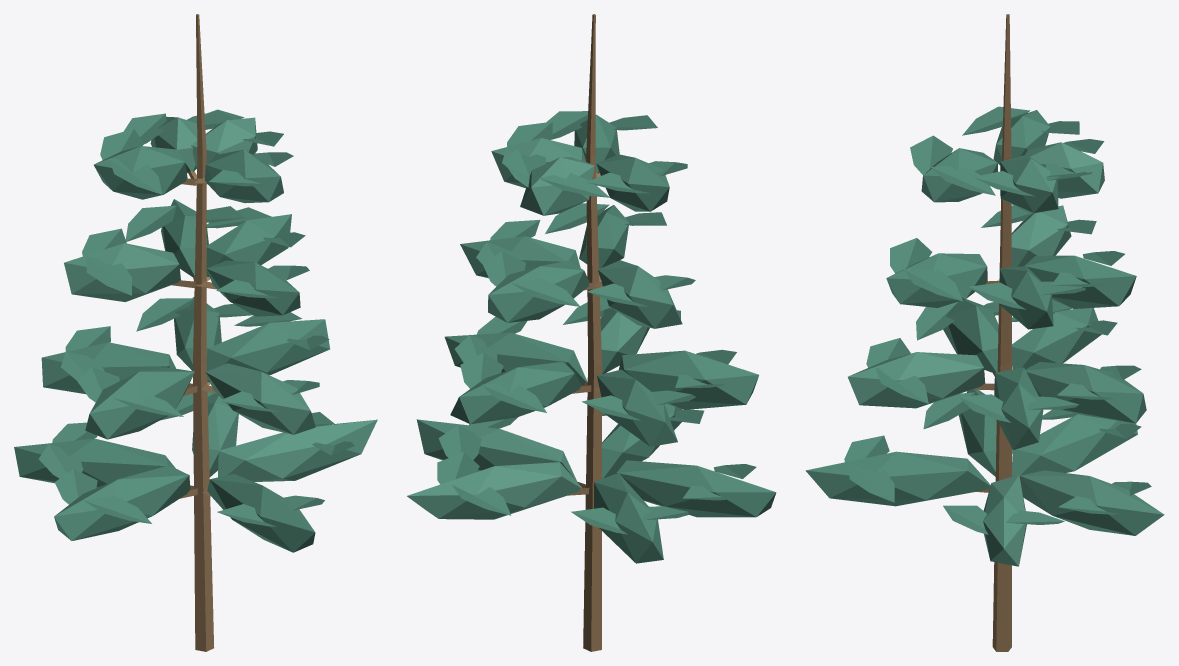
File: conifer_sapling_02.glb
3 renders of one model, left to right at view 1: azimuth 30°, elevation 25°; view 2: azimuth 150°, elevation 25°; view 3: azimuth 270°, elevation 25°, orthographic.
Visible parts, largest first — view 1: Conifer_sapling_800_02; view 2: Conifer_sapling_800_02; view 3: Conifer_sapling_800_02.
Part boxes in pixels (x1,y1,x2,y2): Conifer_sapling_800_02: (14,14,377,651); Conifer_sapling_800_02: (407,14,776,651); Conifer_sapling_800_02: (805,14,1164,651).
Size of the model in its own units: 1.74 by 3.09 by 1.59.
